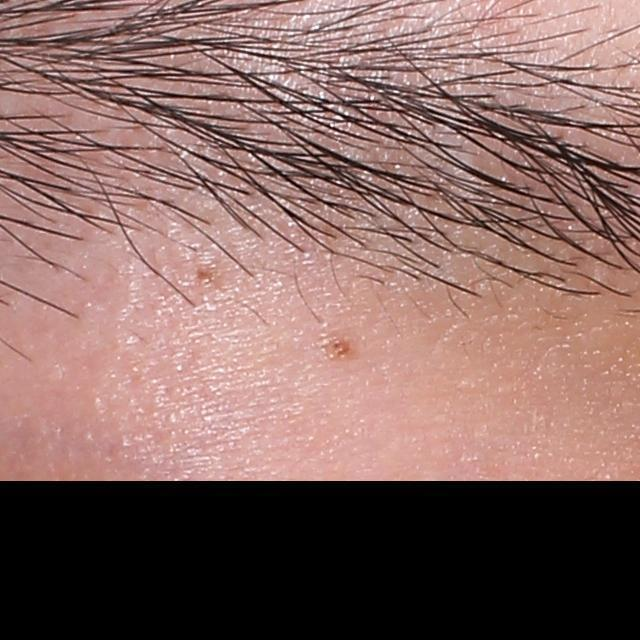nevus: (331, 334, 358, 366)
